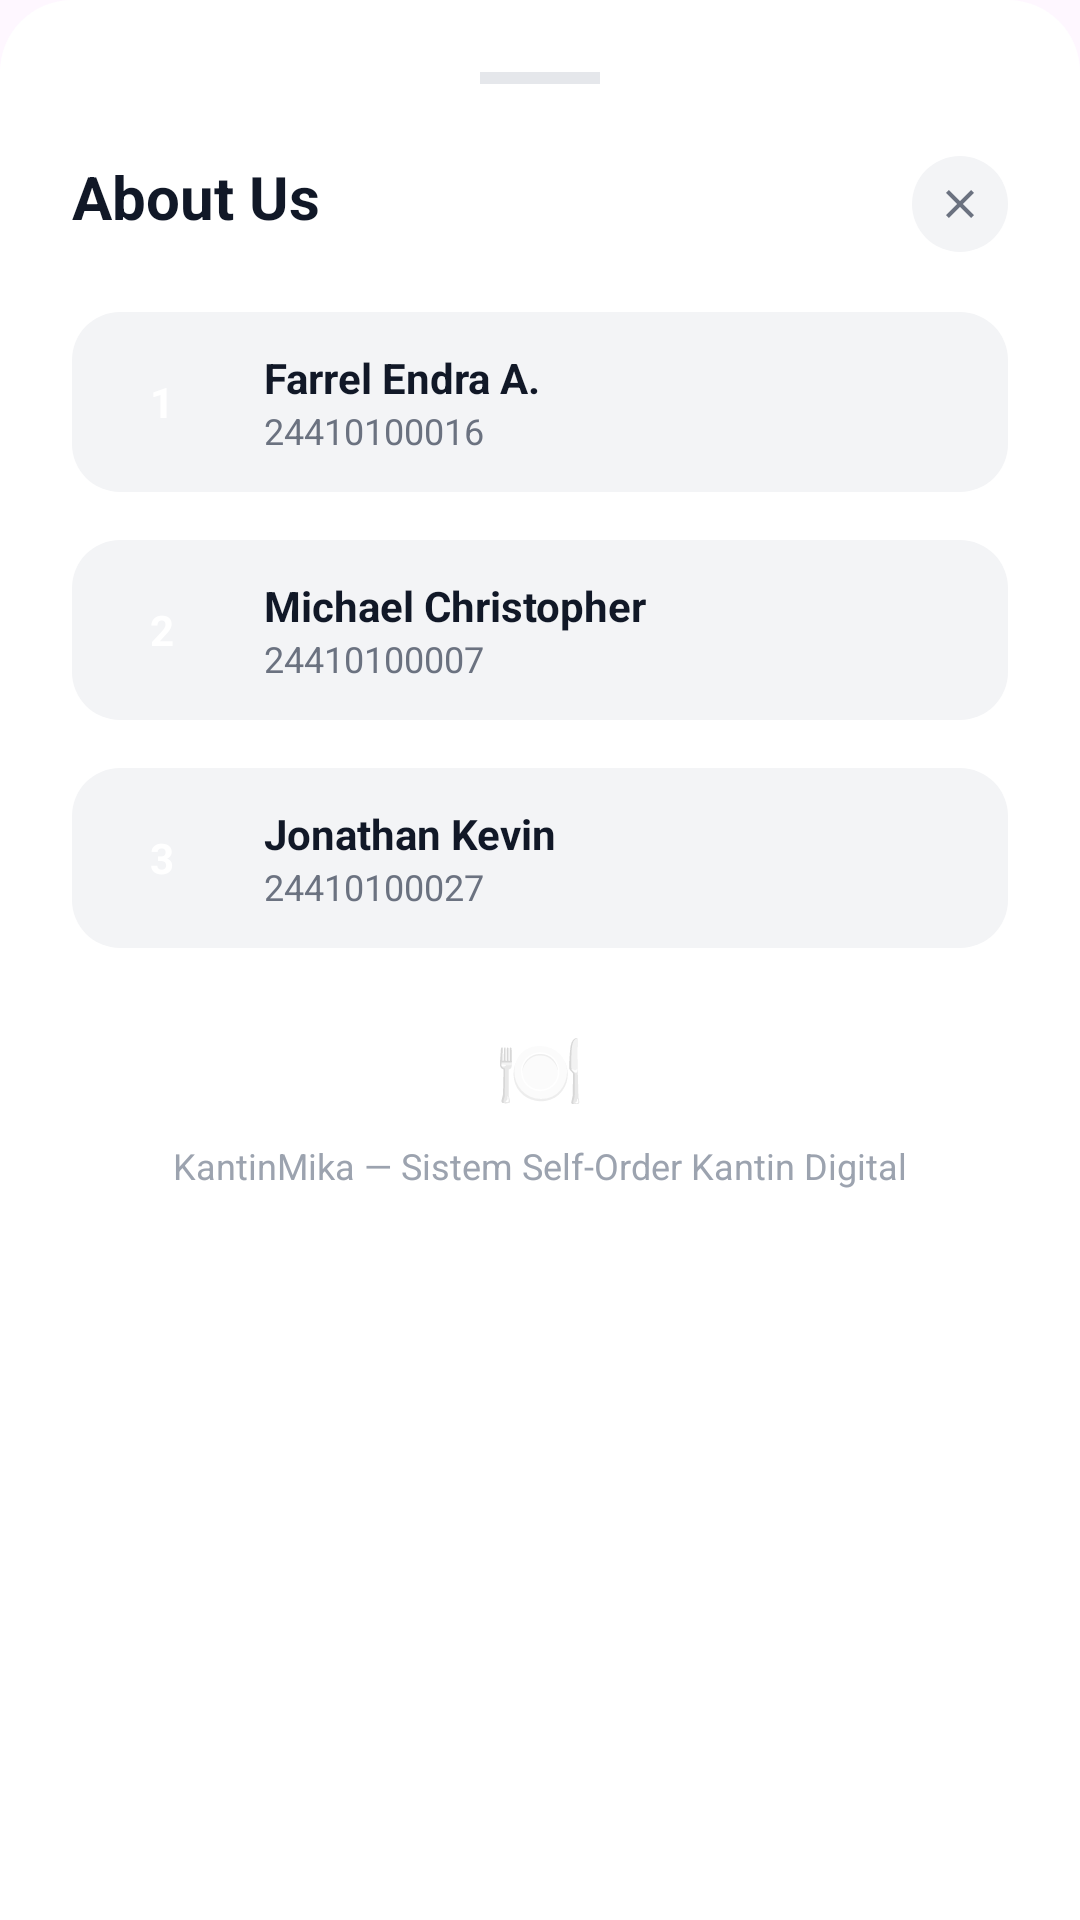

Locate icon controls on the screen. Image size 1080 × 1920, boxes as (x1, y1, x2, y2).
close: (912, 156, 1008, 252)
